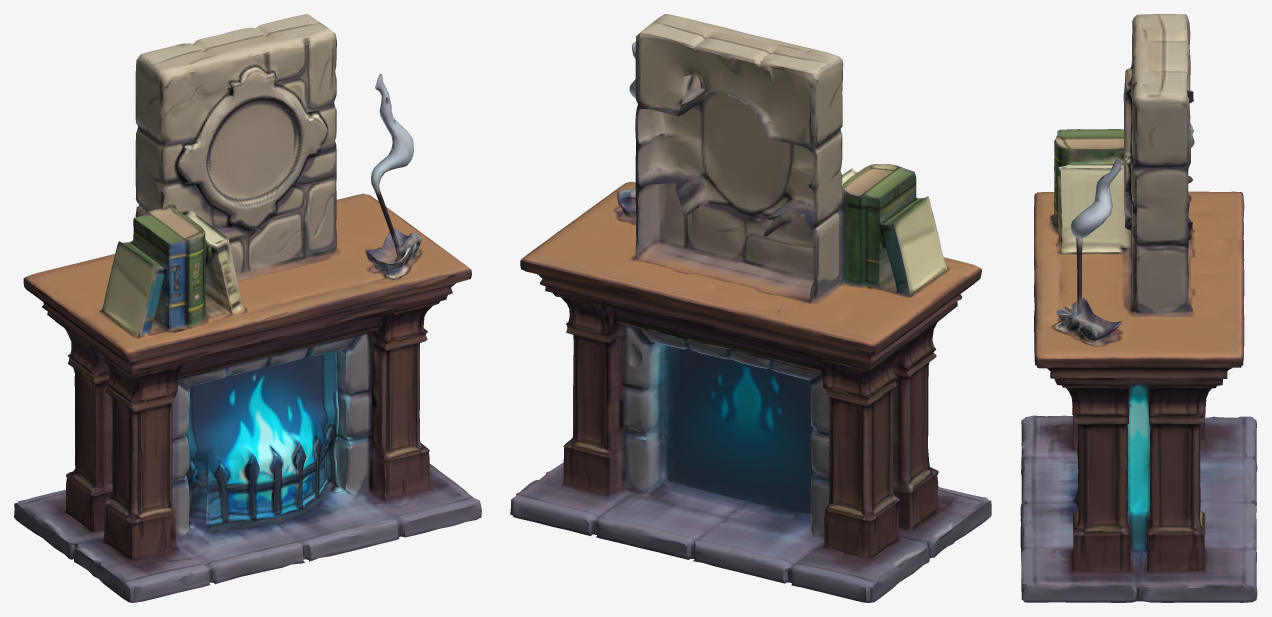
File: blue_fireplace.glb
3 renders of one model, left to right at view 1: azimuth 30°, elevation 25°; view 2: azimuth 150°, elevation 25°; view 3: azimuth 270°, elevation 25°, orthographic. The views are drawn at different scales.
Parts seen in each view (by area): view 1: Fireplace; view 2: Fireplace; view 3: Fireplace.
Boxes of the visible parts, x1,y1,x2,y2 form: Fireplace: (14, 14, 481, 602); Fireplace: (510, 14, 991, 602); Fireplace: (1020, 14, 1257, 602).
Bounding box in the file's own units: 1.42 × 1.8 × 0.834.
Materials: 1 (1 with a texture image).
